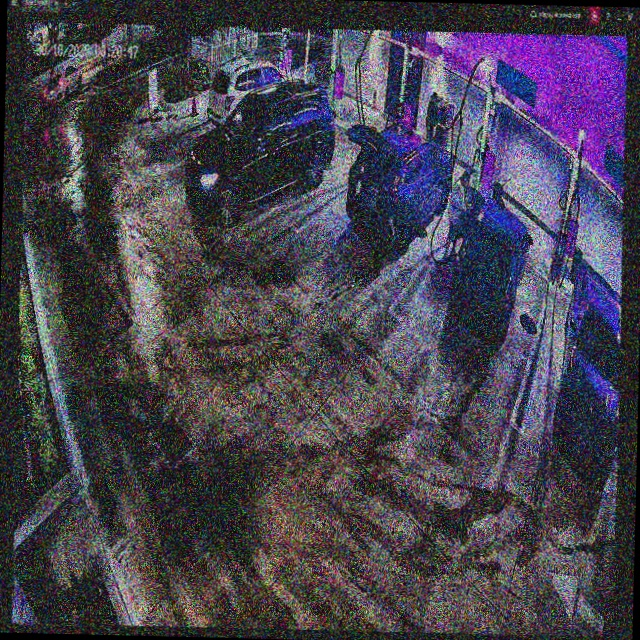Car: (184, 77, 338, 221), (343, 117, 453, 248), (447, 177, 531, 348)
